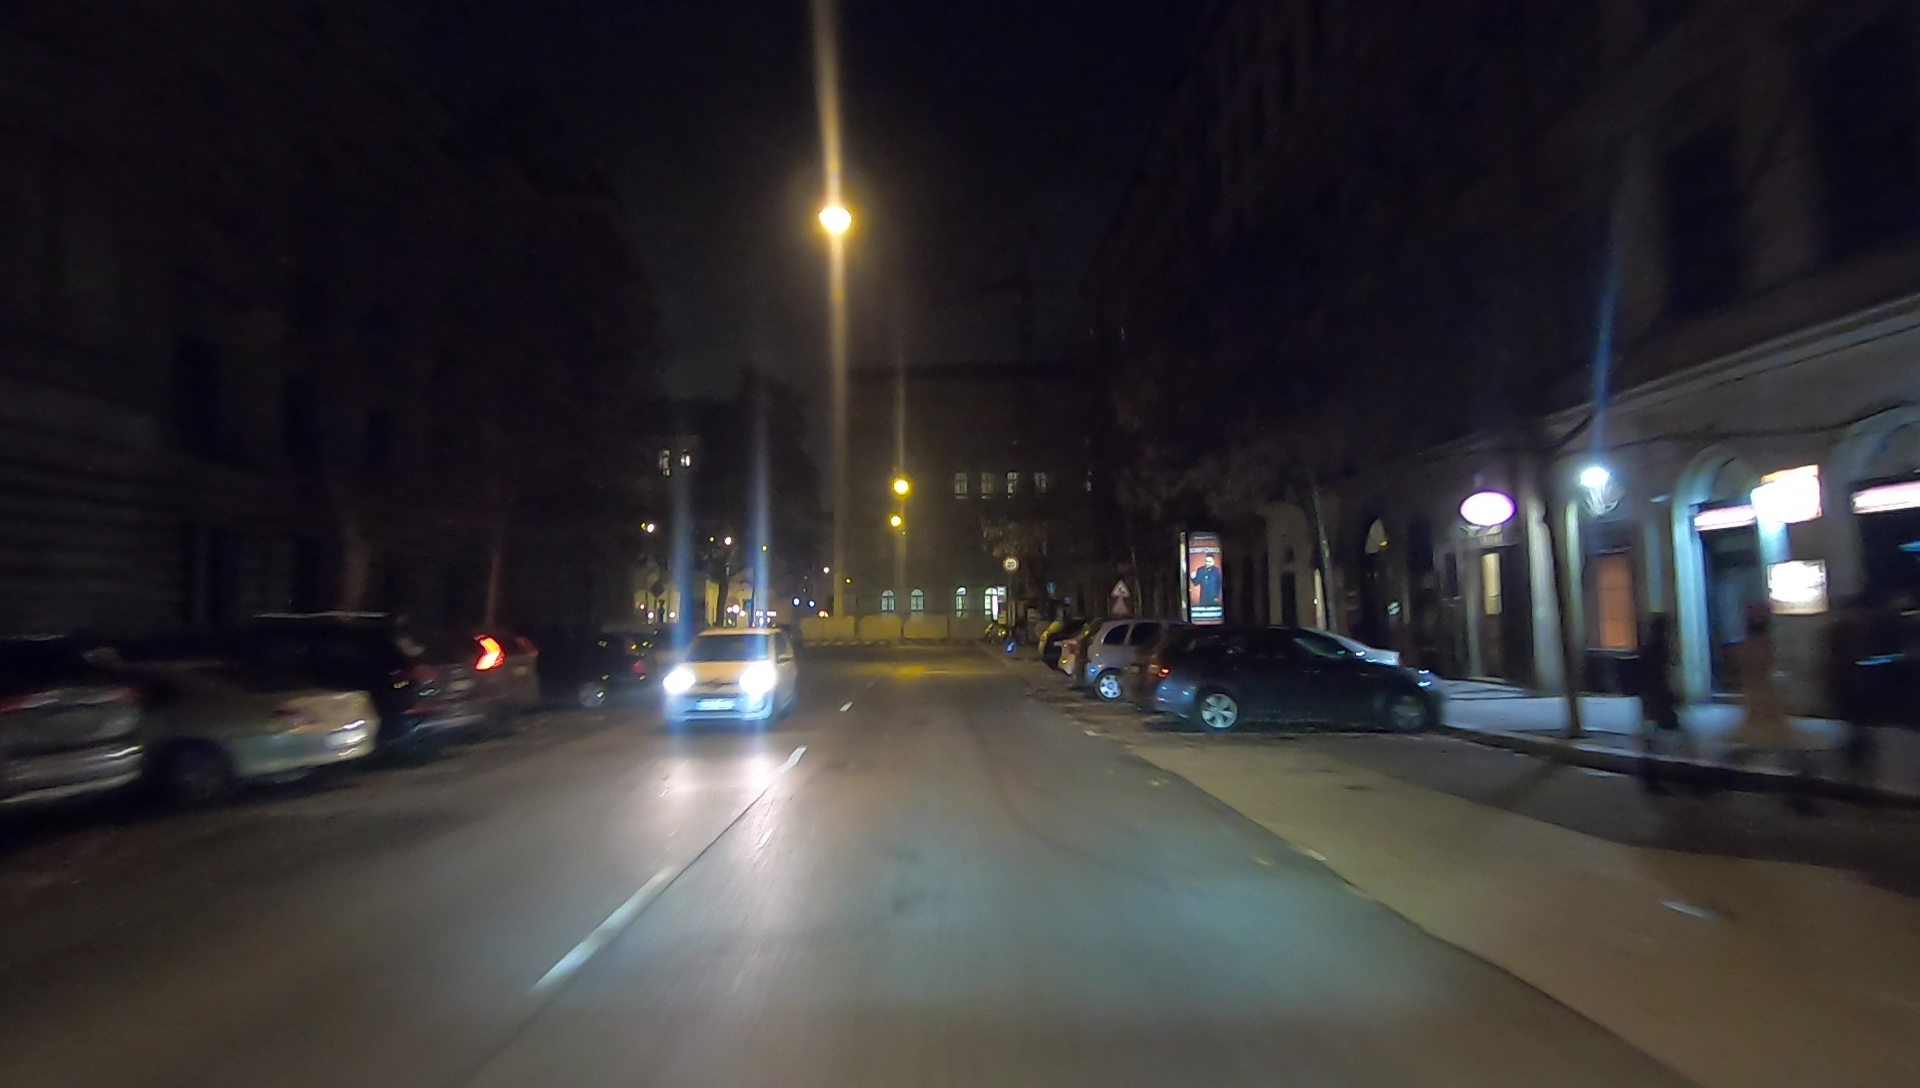person: (1725, 604, 1825, 813), (1636, 613, 1712, 789)
